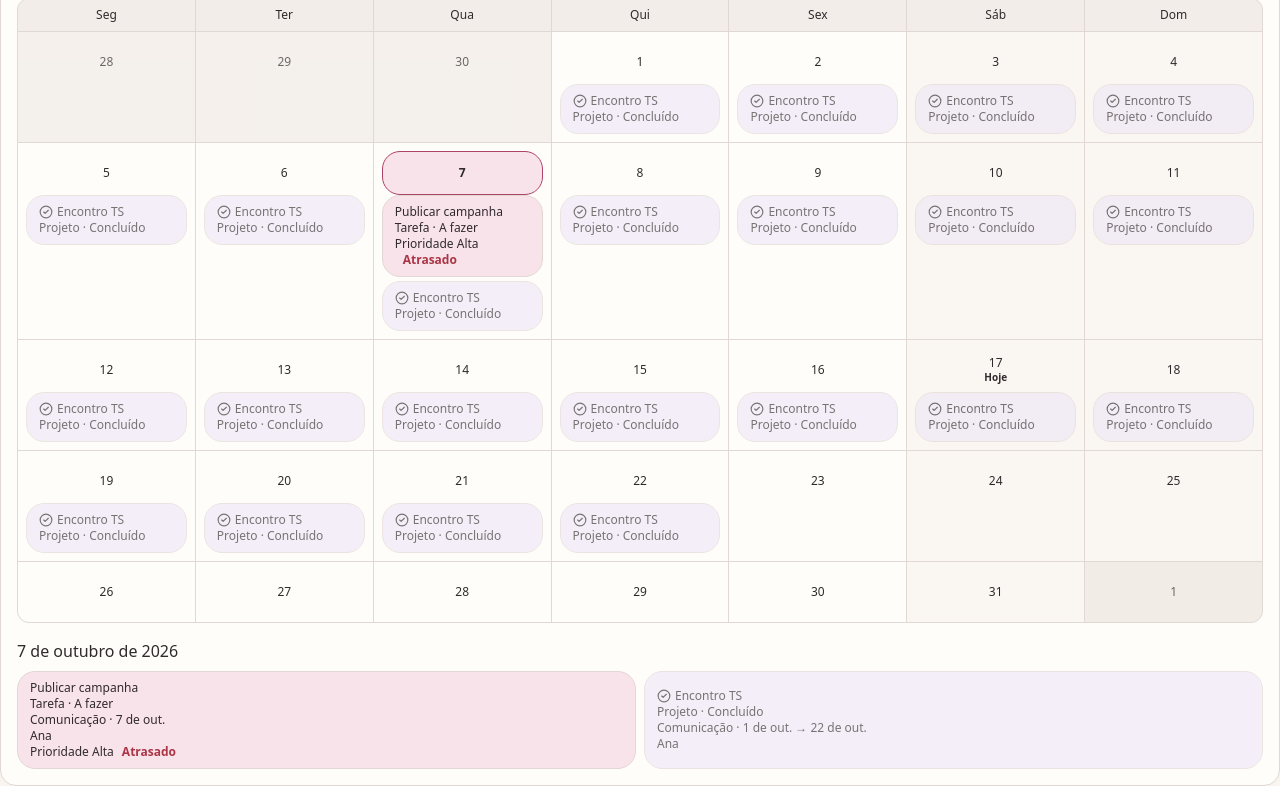
Test: mês consulta janela limitada e permite selecionar dia vazio
(page scrolled)
Click the button named "27 de outubro de 2026" at (284, 592), box [204, 570, 365, 614]
(page scrolled)
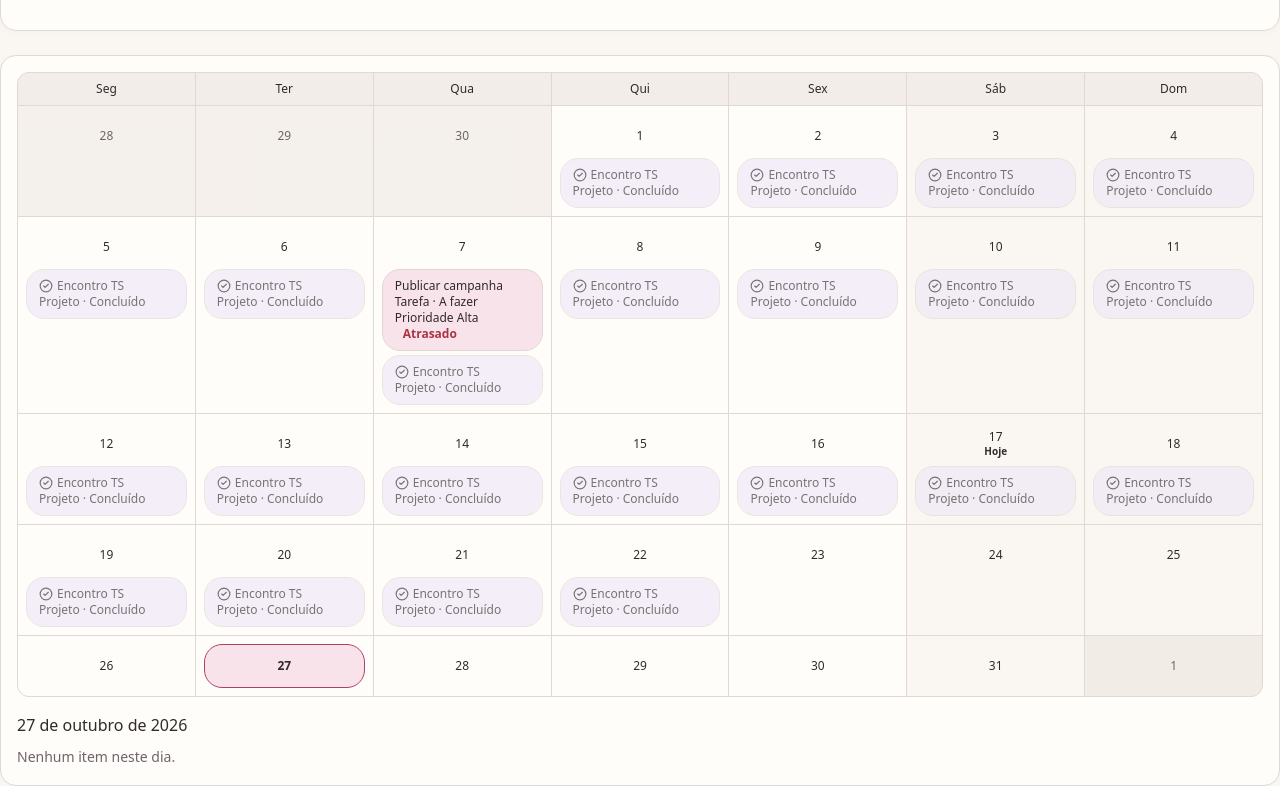
Now the text "Nenhum item neste dia." is shown, box [17, 747, 175, 766]
